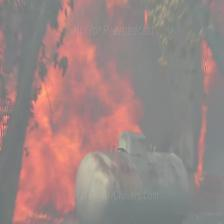fire: (0, 1, 157, 224), (190, 10, 224, 203)
